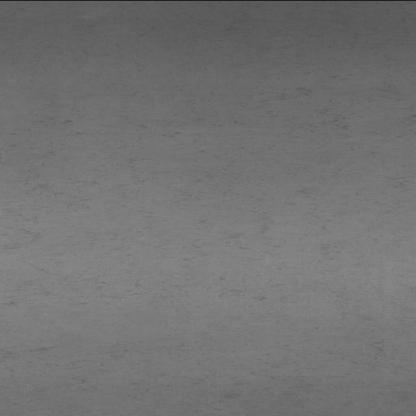silk_spot: (18, 91, 239, 312)
